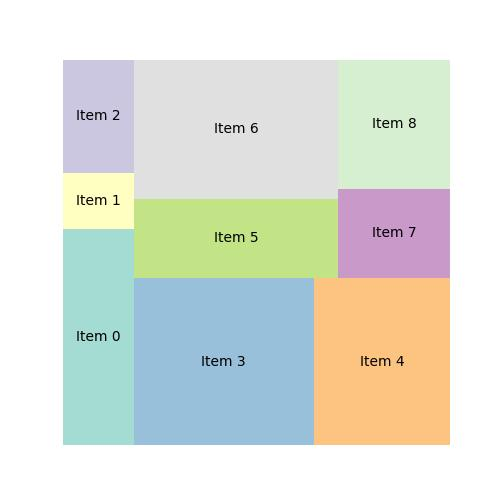rectangle: (133, 276, 314, 445), (136, 60, 339, 198), (313, 279, 451, 446), (134, 199, 339, 279), (64, 231, 133, 446), (340, 61, 450, 188), (339, 188, 450, 279), (63, 59, 136, 175), (66, 172, 134, 227)
